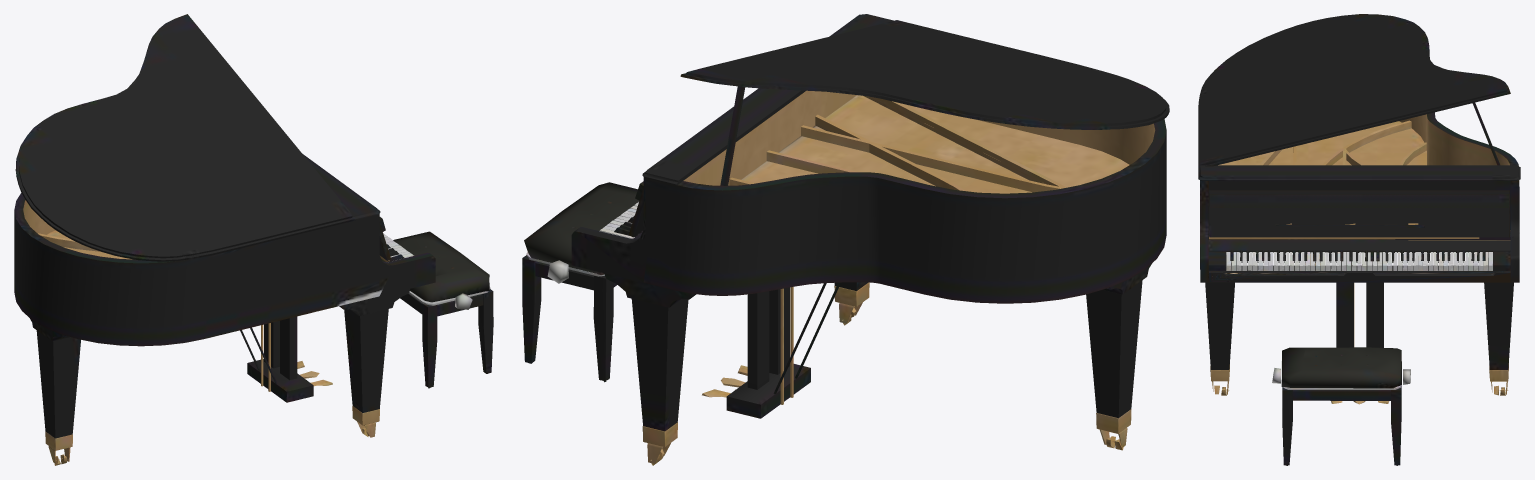
The model's file is Piano0001.obj.
3 views of the same model, side by side, from view 1: azimuth 30°, elevation 25°; view 2: azimuth 150°, elevation 25°; view 3: azimuth 270°, elevation 25° (orthographic). The views are drawn at different scales.
Size of the model in its own units: 1.9 by 1.29 by 1.28.
Materials: 1 (1 with a texture image).
